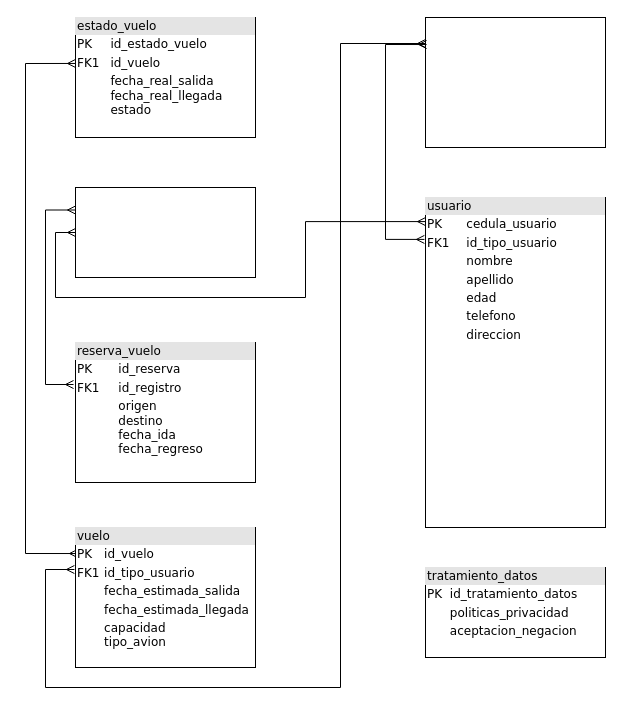
Some shapes in this 623 by 714 pixel diagram are drawn without their labels. Here are the shapes that lost their labels. From the top down, the centre of each, then its label:
[515,82]: tipo_usuario PK id_tipo_usuario usuario_final usuario_piloto usuario_admin
[165,232]: registro PK id_registro FK1 cedula_usuario
